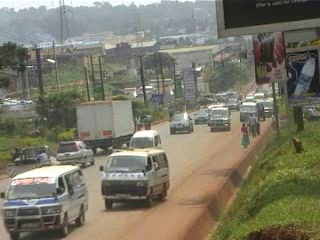Car: (52, 137, 96, 169), (167, 110, 194, 137), (190, 106, 211, 126), (223, 97, 242, 112), (243, 92, 254, 101)
Motorcycle: (143, 113, 152, 130)
